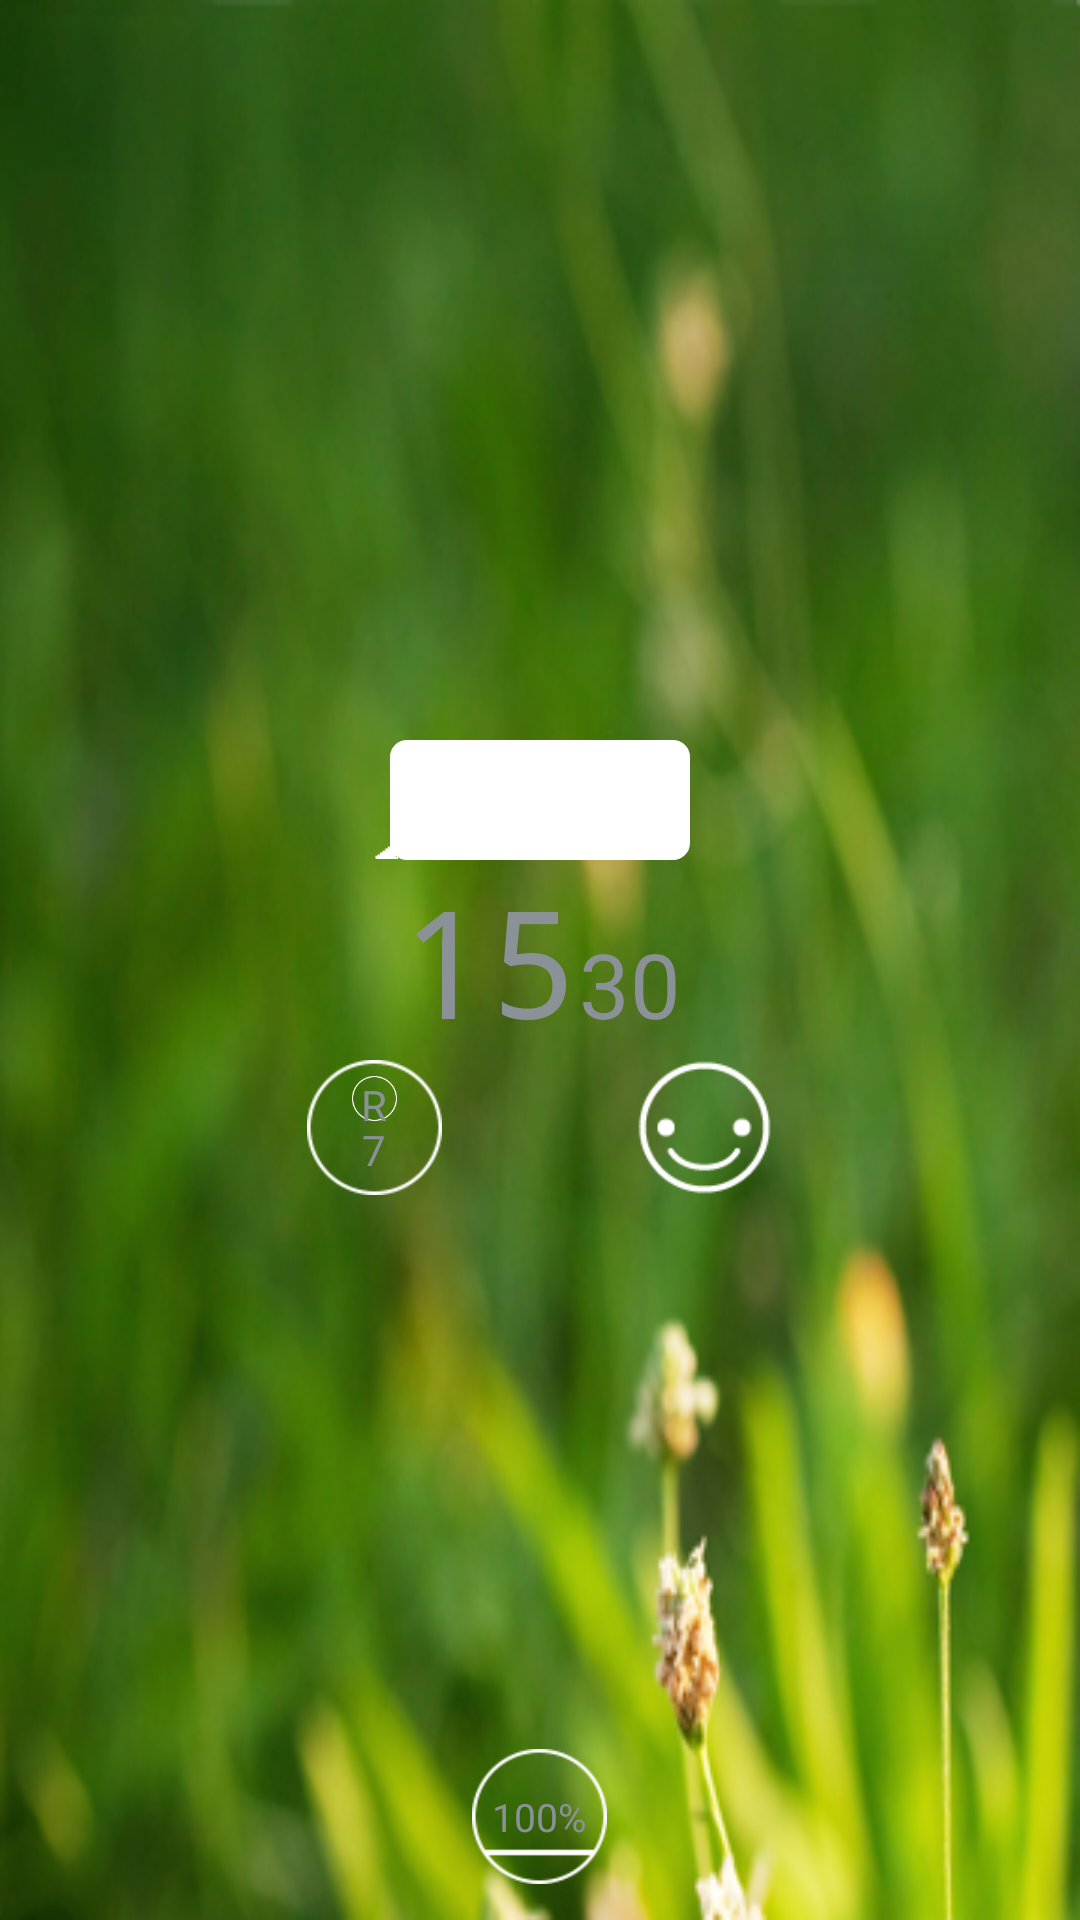

Locate icon controls on the screen. Image size 1080 x 1920, boxes as (x1, y1, x2, y2).
faces happy: (638, 1060, 772, 1195)
